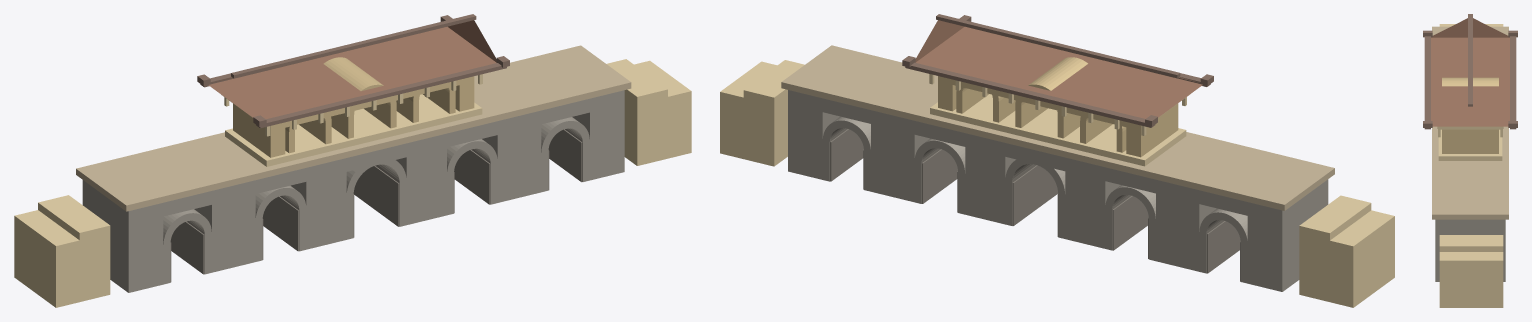
3 renders of one model, left to right at view 1: azimuth 30°, elevation 25°; view 2: azimuth 150°, elevation 25°; view 3: azimuth 270°, elevation 25°, orthographic. The views are drawn at different scales.
Parts seen in each view (by area): view 1: upper_wall, roof_main, gate_main_upper_band, side_wall_left_51, pavilion_plinth, side_wall_right_47, side_wall_left_47, gate_pier_5, gate_pier_2, gate_pier_1, gate_pier_3, gate_pier_4 (+22 smaller); view 2: upper_wall, roof_main, gate_main_upper_band, side_wall_left_51, pavilion_plinth, side_wall_right_47, side_wall_left_47, gate_pier_2, gate_pier_5, gate_pier_3, gate_pier_4, outer_mass_left (+22 smaller); view 3: roof_main, upper_wall, side_wall_right_51, pavilion_side_right, side_wall_right_47, gate_main_upper_band, outer_mass_right, pavilion_plinth, roof_eave_rear, roof_eave_front, pavilion_arch_2, roof_ridge (+4 smaller).
Boxes of the visible parts, x1=… form: upper_wall: x1=76, y1=45, x2=631, y2=211; roof_main: x1=208, y1=20, x2=496, y2=119; gate_main_upper_band: x1=82, y1=90, x2=624, y2=224; side_wall_left_51: x1=14, y1=210, x2=79, y2=307; pavilion_plinth: x1=225, y1=94, x2=482, y2=166; side_wall_right_47: x1=607, y1=59, x2=667, y2=165; side_wall_left_47: x1=38, y1=195, x2=110, y2=301; gate_pier_5: x1=482, y1=123, x2=541, y2=202; gate_pier_2: x1=194, y1=193, x2=255, y2=272; gate_pier_1: x1=83, y1=193, x2=163, y2=292; gate_pier_3: x1=291, y1=172, x2=346, y2=249; gate_pier_4: x1=396, y1=147, x2=446, y2=224; upper_wall: x1=781, y1=45, x2=1334, y2=210; roof_main: x1=915, y1=20, x2=1202, y2=118; gate_main_upper_band: x1=788, y1=90, x2=1328, y2=223; side_wall_left_51: x1=1330, y1=210, x2=1394, y2=307; pavilion_plinth: x1=930, y1=94, x2=1186, y2=166; side_wall_right_47: x1=743, y1=60, x2=804, y2=166; side_wall_left_47: x1=1299, y1=195, x2=1371, y2=301; gate_pier_2: x1=1156, y1=192, x2=1216, y2=271; gate_pier_5: x1=871, y1=123, x2=929, y2=202; gate_pier_3: x1=1065, y1=170, x2=1120, y2=248; gate_pier_4: x1=965, y1=147, x2=1015, y2=224; outer_mass_left: x1=1264, y1=186, x2=1328, y2=291; roof_main: x1=1431, y1=18, x2=1509, y2=126; upper_wall: x1=1432, y1=26, x2=1508, y2=219; side_wall_right_51: x1=1439, y1=252, x2=1503, y2=307; pavilion_side_right: x1=1442, y1=129, x2=1498, y2=153; side_wall_right_47: x1=1439, y1=235, x2=1503, y2=251; gate_main_upper_band: x1=1435, y1=219, x2=1505, y2=229; outer_mass_right: x1=1435, y1=227, x2=1505, y2=281; pavilion_plinth: x1=1438, y1=129, x2=1502, y2=160; roof_eave_rear: x1=1510, y1=36, x2=1516, y2=129; roof_eave_front: x1=1424, y1=36, x2=1430, y2=129; pavilion_arch_2: x1=1442, y1=77, x2=1498, y2=86; roof_ridge: x1=1468, y1=14, x2=1472, y2=106.
Size of the model in its own units: 10.89 by 2.8 by 1.84.
